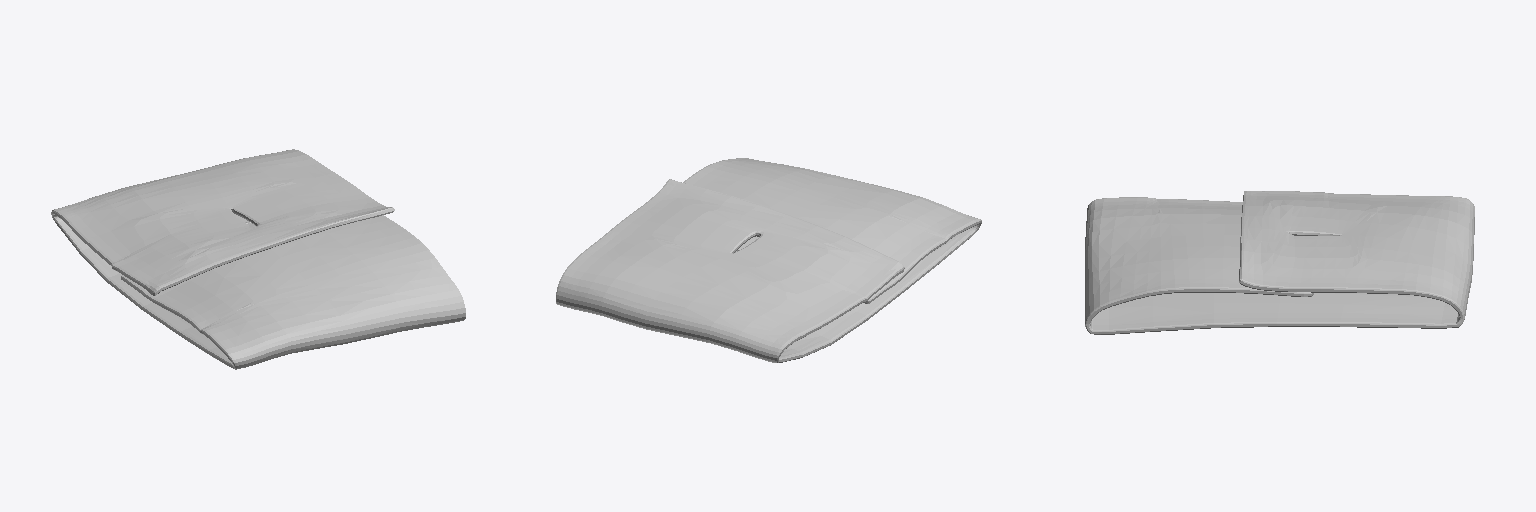
File: Sleeve.obj
3 renders of one model, left to right at view 1: azimuth 30°, elevation 25°; view 2: azimuth 150°, elevation 25°; view 3: azimuth 270°, elevation 25°, orthographic.
Parts seen in each view (by area): view 1: Object009.001; view 2: Object009.001; view 3: Object009.001.
Part boxes in pixels (x1,y1,x2,y2): Object009.001: (51,149,465,369); Object009.001: (556,158,981,362); Object009.001: (1085,191,1474,334).
Size of the model in its own units: 9.65 by 2.58 by 13.38.